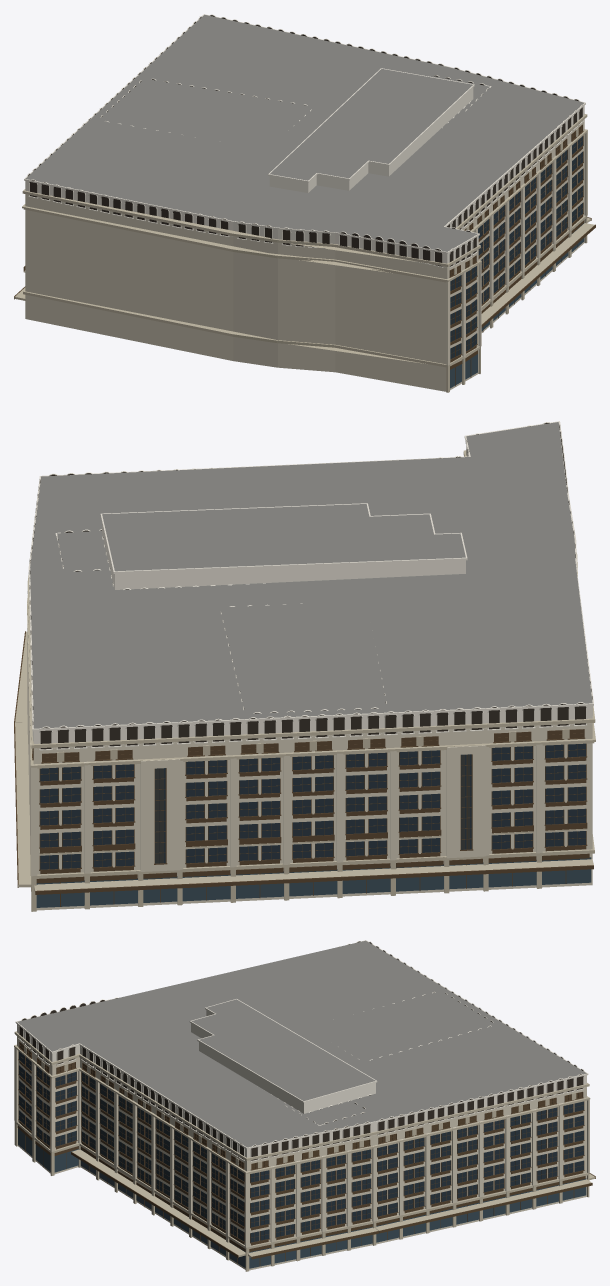
Rendered from derry_and_toms.glb.
The picture shows the model from 3 angles, top to bottom: view 1: azimuth 30°, elevation 25°; view 2: azimuth 150°, elevation 25°; view 3: azimuth 270°, elevation 25°; orthographic projection. The views are drawn at different scales.
Size of the model in its own units: 106 by 32.27 by 119.
